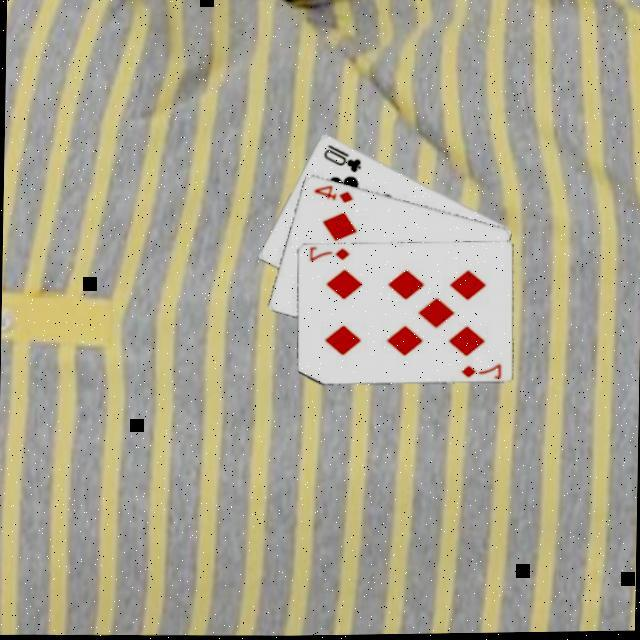10C: (317, 140, 362, 175)
4D: (307, 180, 353, 206)
7D: (303, 243, 349, 265), (455, 359, 501, 380)
